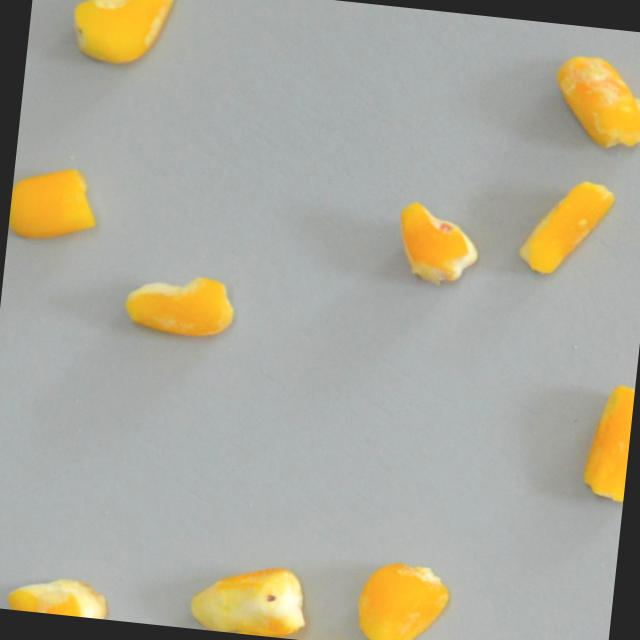dañado: (392, 198, 484, 289)
estandar: (516, 173, 614, 279), (7, 162, 99, 244), (579, 380, 635, 504), (4, 570, 112, 619)
pelicula: (547, 50, 640, 151), (120, 268, 236, 341), (353, 556, 451, 640)
punto_negro: (184, 558, 310, 640), (65, 0, 173, 69)
